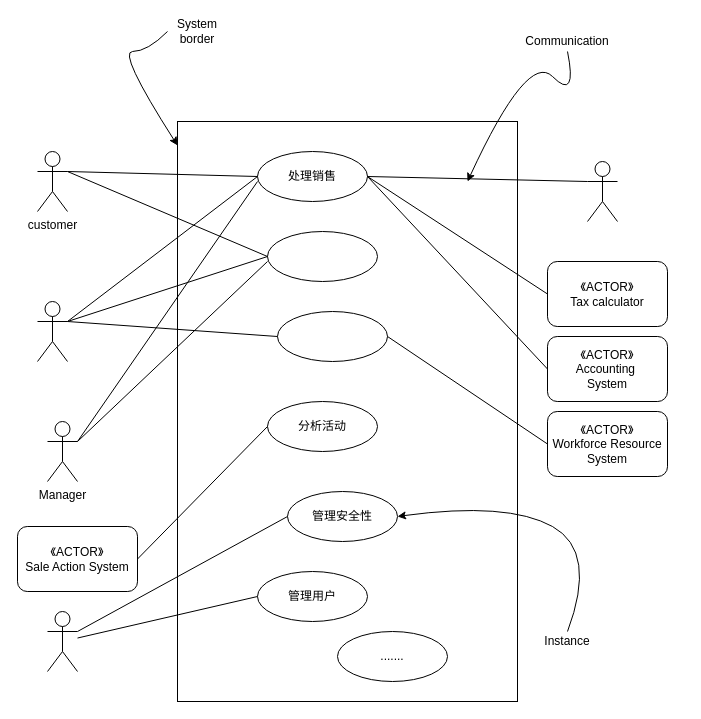
The diagram is 701 pixels wide and 719 high, and some of its shapes have lost their labels. Each missing label, with the centre of its shape:
cashier: point (52, 331)
Payment Authorization Service: point (602, 191)
System Manager: point (62, 641)
处理退货: point (322, 256)
收款: point (332, 336)
